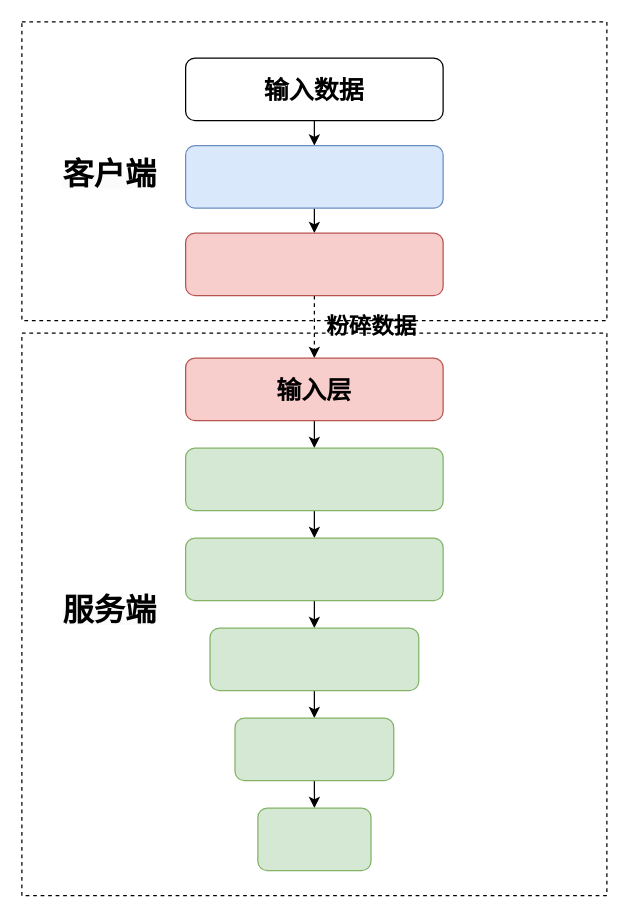
This 629x918 diagram has some shape labels left out. Here are the shapes that lost their labels. From the top down, the centre of each, then its label:
At (x=313, y=264): "切割层".
At (x=314, y=839): "标签".
